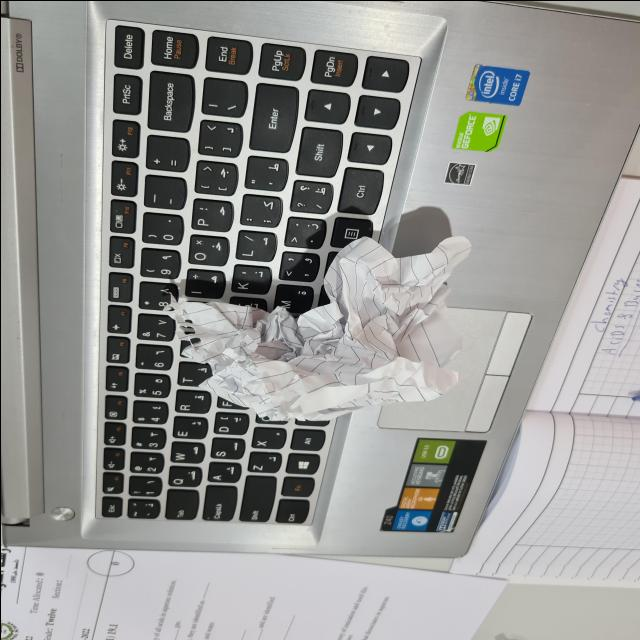kertas: (183, 228, 477, 414)
